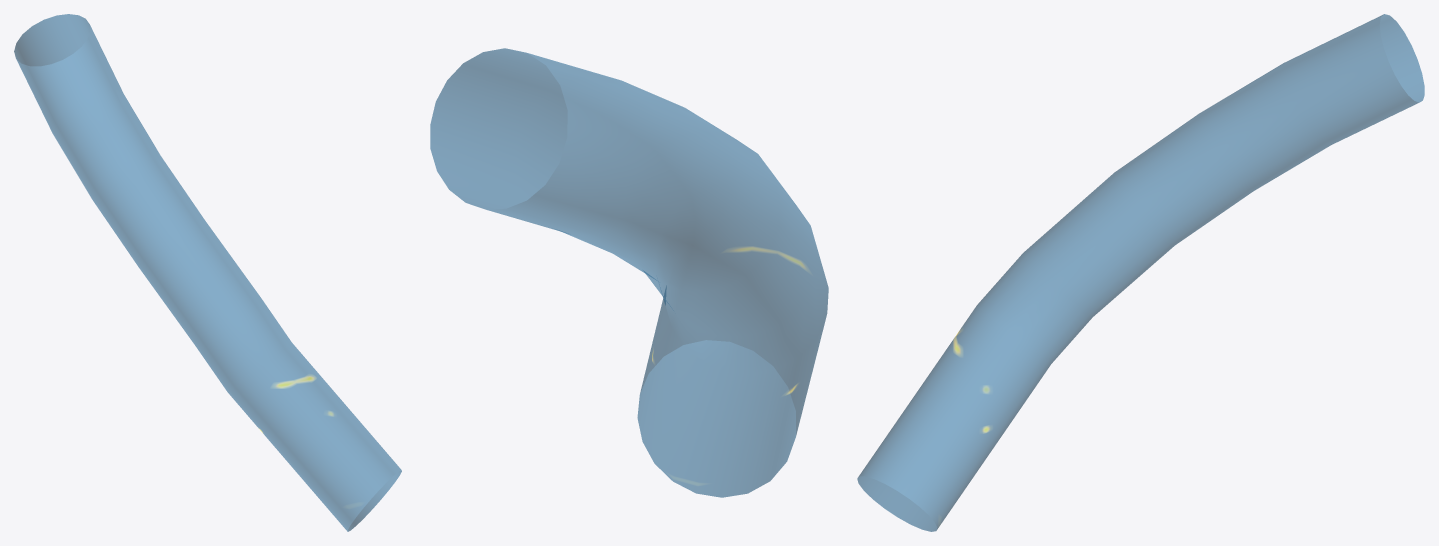
File: lacIPromoter_holder.glb
3 views of the same model, side by side, from view 1: azimuth 30°, elevation 25°; view 2: azimuth 150°, elevation 25°; view 3: azimuth 270°, elevation 25° (orthographic). The views are drawn at different scales.
Parts seen in each view (by area): view 1: lacIPromoter; view 2: lacIPromoter; view 3: lacIPromoter.
Boxes of the visible parts, <box> form: lacIPromoter: <box>14,14,401,531</box>; lacIPromoter: <box>430,48,828,497</box>; lacIPromoter: <box>857,14,1424,531</box>.
Bounding box in the file's own units: 0.2354 × 0.4977 × 0.5611.
Materials: 1 (1 with a texture image).
